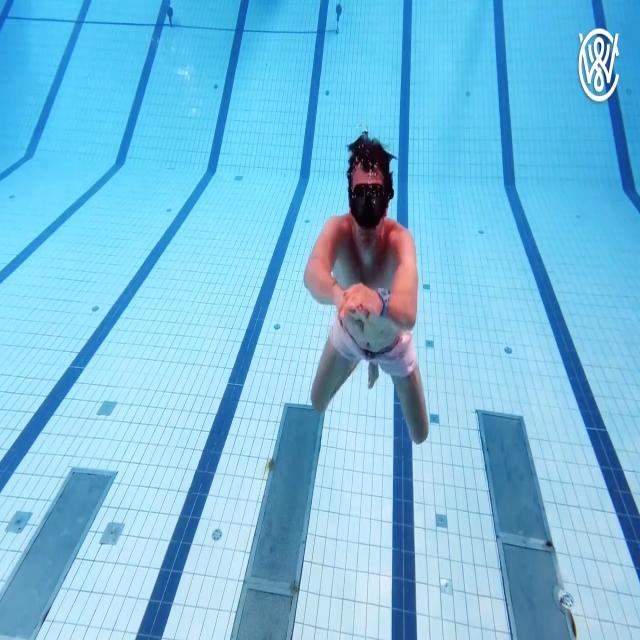Swimming: (304, 132, 431, 446)
